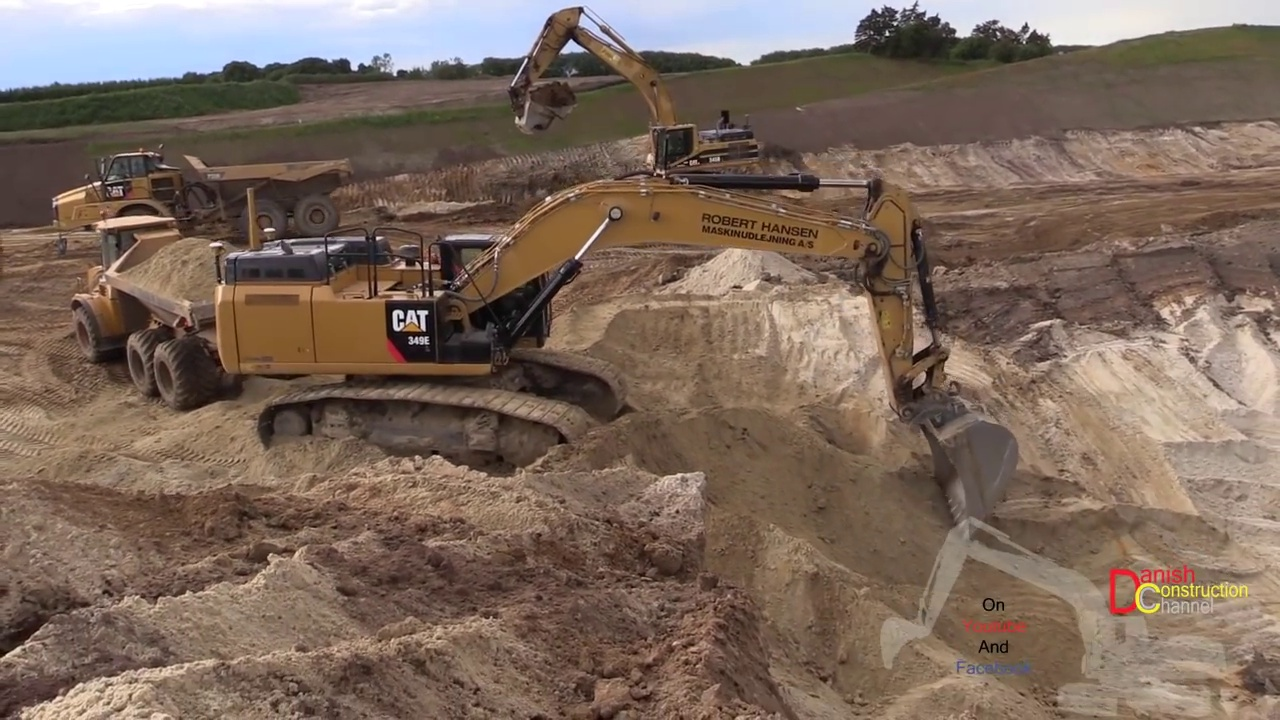dumper: (72, 216, 256, 406), (48, 147, 354, 234)
excavator: (216, 193, 1019, 534), (508, 7, 776, 203)
